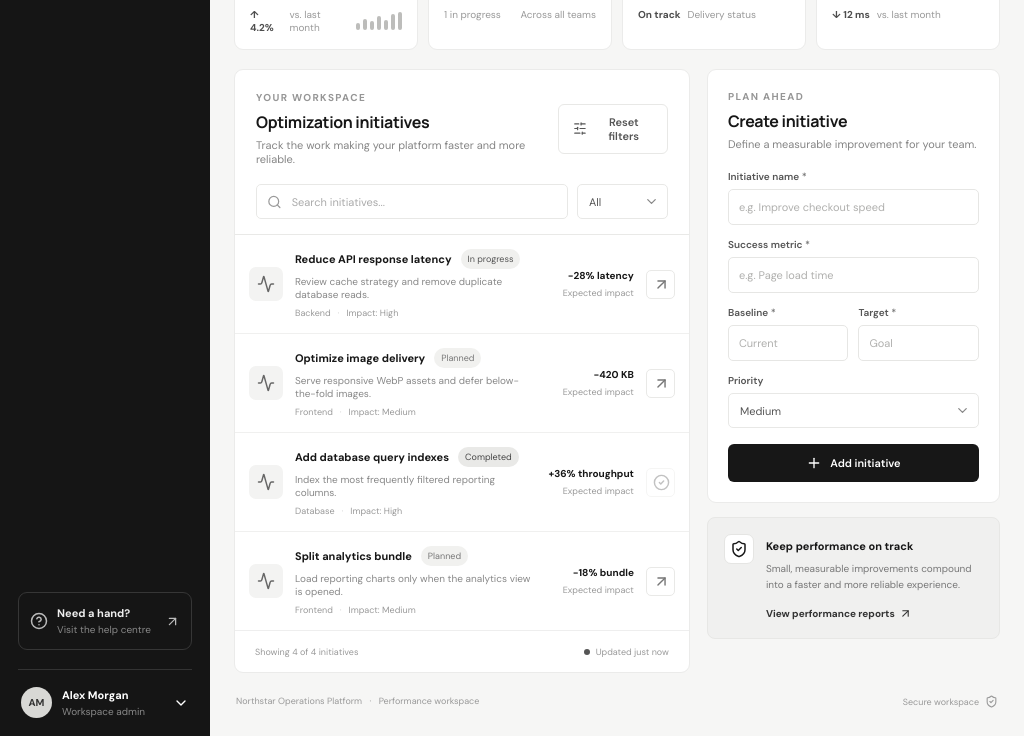
Performance Optimization portal acceptance criteria › blocks invalid form submission and marks required fields
The width and height of the screenshot is (1024, 736).
(page scrolled)
What coordinates should you click on to do the following:
click the button "Add initiative"
I would click on:
 (853, 463)
Its box is [728,444,979,482].
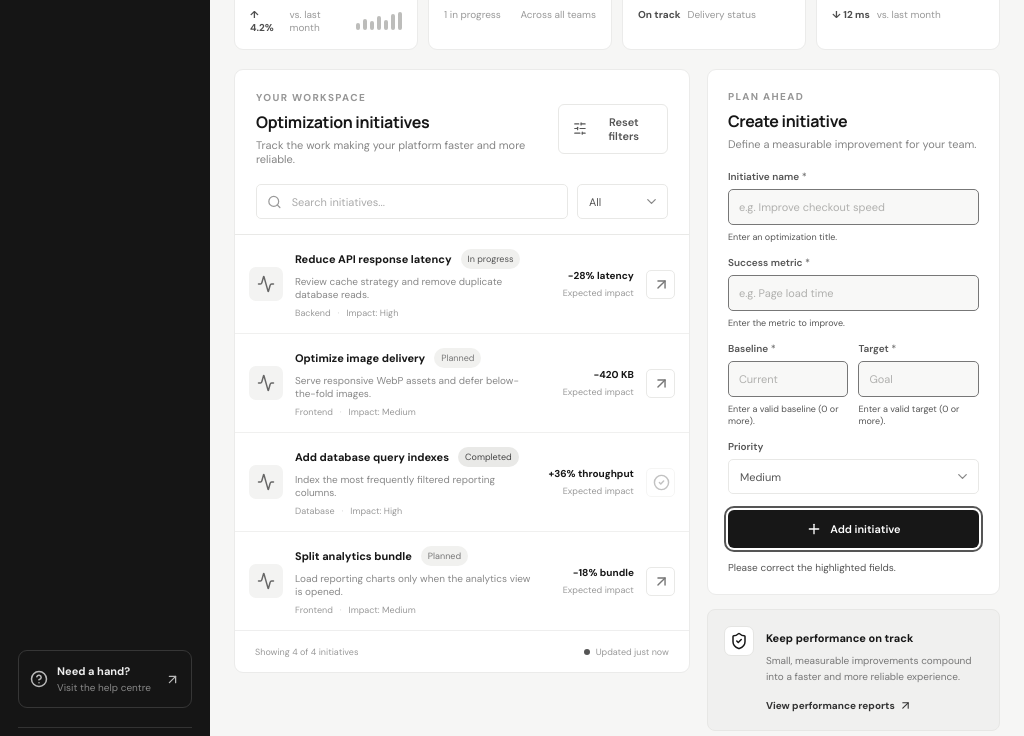
Check: the text "Enter an optimization title." is shown, box [728,231,837,243]
